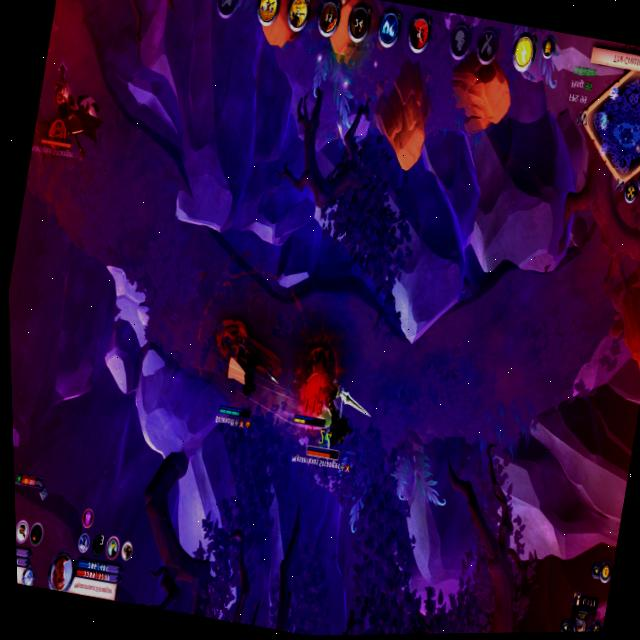red: (284, 360, 381, 483), (27, 59, 117, 170), (206, 329, 285, 443), (289, 338, 343, 440)
tree: (360, 47, 447, 180), (434, 42, 524, 161), (587, 239, 640, 396), (316, 0, 398, 82), (242, 0, 326, 70)
